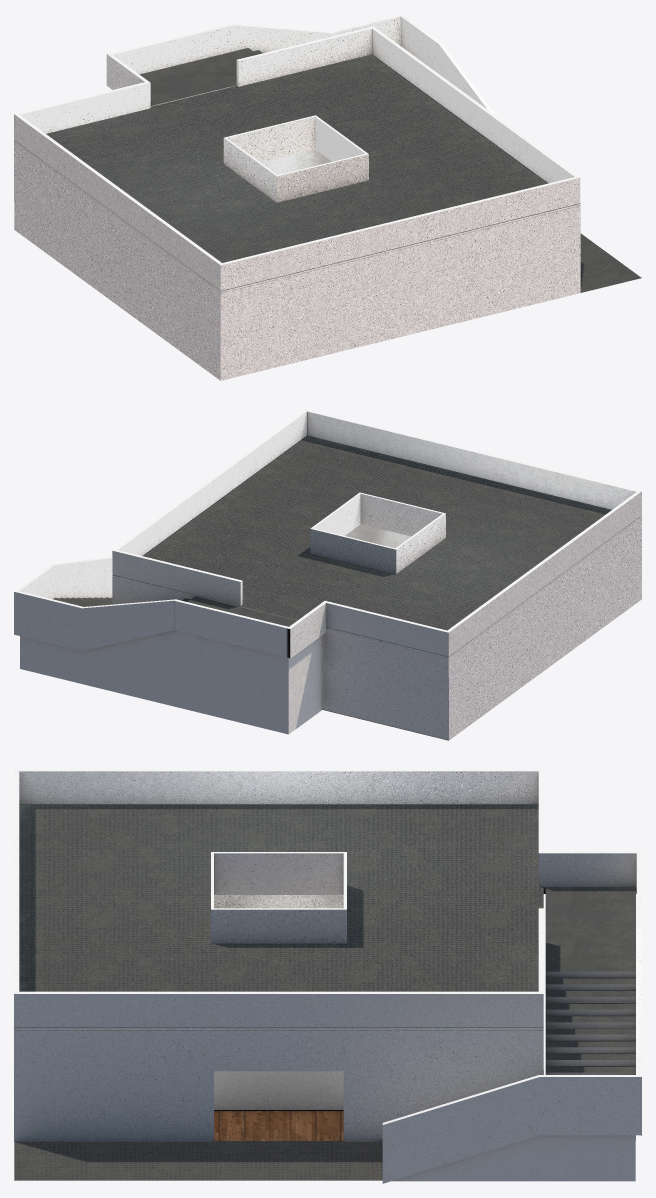
3 views of the same model, one above another, from view 1: azimuth 30°, elevation 25°; view 2: azimuth 150°, elevation 25°; view 3: azimuth 270°, elevation 25° (orthographic). The views are drawn at different scales.
Visible parts, largest first — view 1: celling, walls_exterior, gelende, STAIRS, floor, walls; view 2: celling, gelende, walls_exterior, STAIRS, walls; view 3: celling, gelende, walls_exterior, STAIRS, floor, walls.
Part boxes in pixels (box(x1,y1,x2,y2)): celling: box(14, 54, 580, 292); walls_exterior: box(14, 142, 580, 380); gelende: box(14, 14, 580, 290); STAIRS: box(140, 48, 262, 106); floor: box(580, 233, 641, 292); walls: box(261, 149, 331, 174); celling: box(112, 435, 641, 658); gelende: box(14, 409, 641, 658); walls_exterior: box(112, 517, 641, 740); STAIRS: box(20, 596, 321, 734); walls: box(345, 524, 410, 548); celling: box(14, 804, 543, 1029); gelende: box(14, 769, 641, 1183); walls_exterior: box(14, 895, 543, 1141); STAIRS: box(392, 887, 635, 1181); floor: box(14, 1070, 543, 1180); walls: box(214, 1071, 343, 1110).
Bounding box in the file's own units: 24.32 × 6.3 × 24.18.
8 materials, 7 textured.
